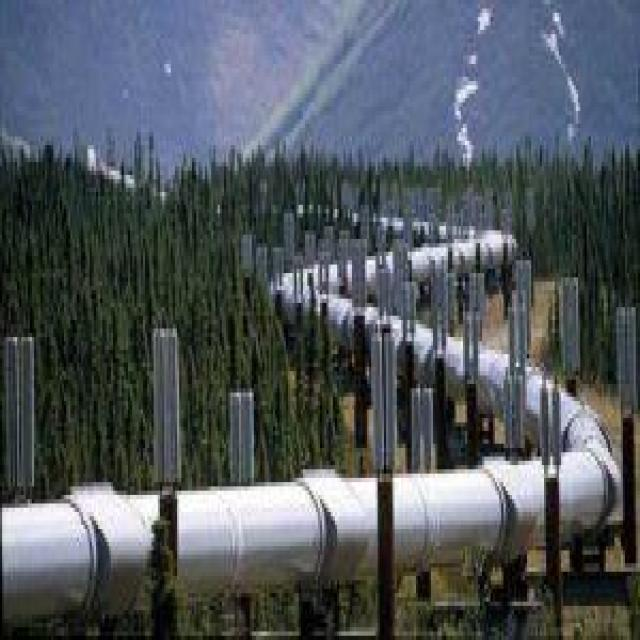gas: (4, 218, 613, 614)
